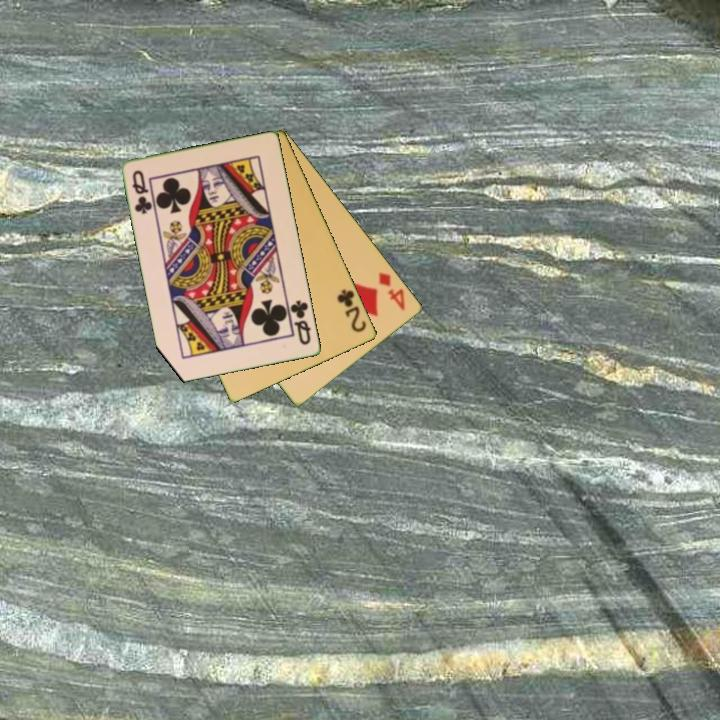2c: (334, 286, 370, 335)
4d: (375, 268, 408, 314)
Qc: (285, 297, 314, 348), (129, 167, 155, 217)
